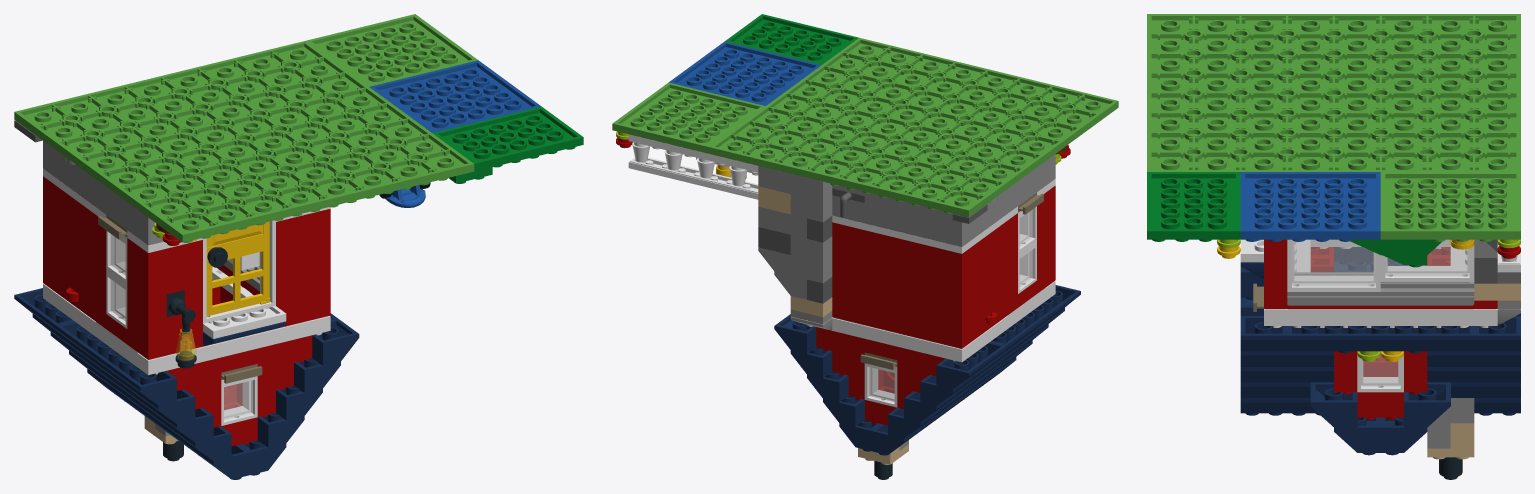
3 views of the same model, side by side, from view 1: azimuth 30°, elevation 25°; view 2: azimuth 150°, elevation 25°; view 3: azimuth 270°, elevation 25° (orthographic). The views are drawn at different scales.
Bounding box in the file's own units: 440 × 372 × 320.
